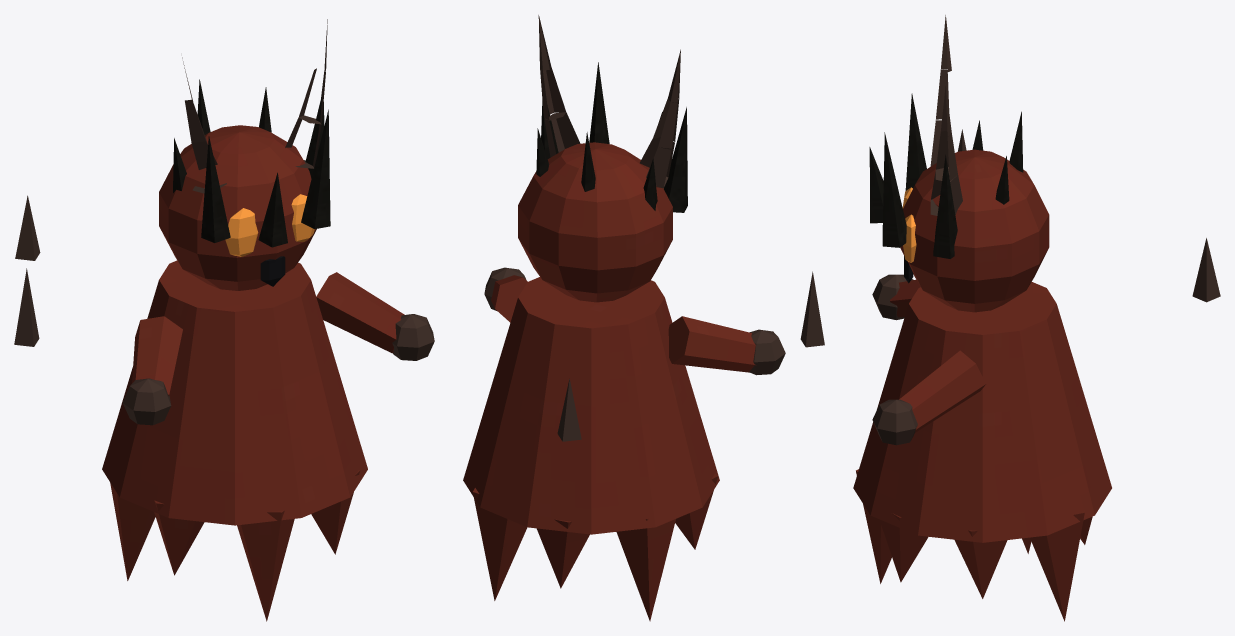
File: mon_sp_ember_king.glb
The picture shows the model from 3 angles, left to right: view 1: azimuth 30°, elevation 25°; view 2: azimuth 150°, elevation 25°; view 3: azimuth 270°, elevation 25°; orthographic projection. The views are drawn at different scales.
Parts seen in each view (by area): view 1: mon_sp_ember_king; view 2: mon_sp_ember_king; view 3: mon_sp_ember_king.
Part boxes in pixels (x1,y1,x2,y2): mon_sp_ember_king: [14, 19, 434, 621]; mon_sp_ember_king: [463, 15, 824, 621]; mon_sp_ember_king: [853, 15, 1220, 621].
Bounding box in the file's own units: 1.93 × 2.68 × 1.64.
Materials: 5 (5 with a texture image).
